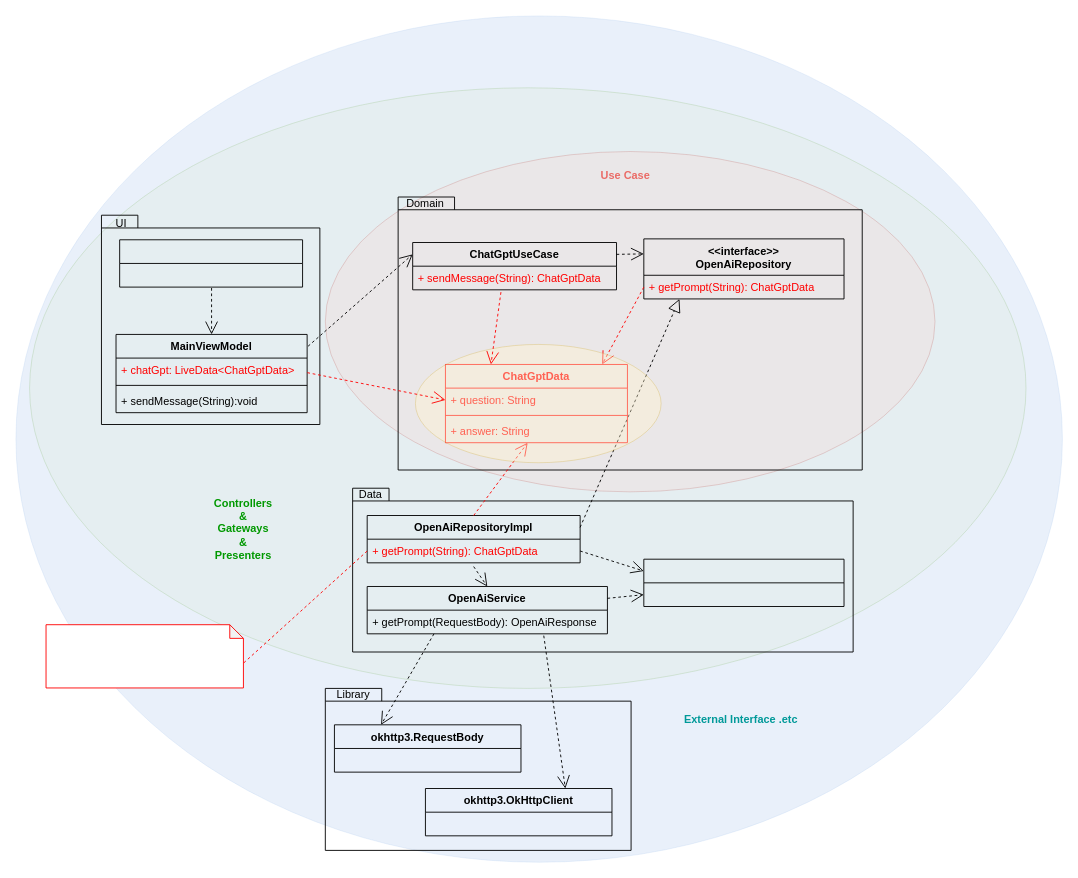
The diagram is 1078 pixels wide and 878 high, and some of its shapes have lost their labels. The centre of each missing label's shape, as x and y in pixels:
Entities: (538,403)
MaicActivity: (211,263)
OpenAiResponse: (743,582)
OpenAiResponse のデータを ChatGptData に詰め替える。: (144,656)
